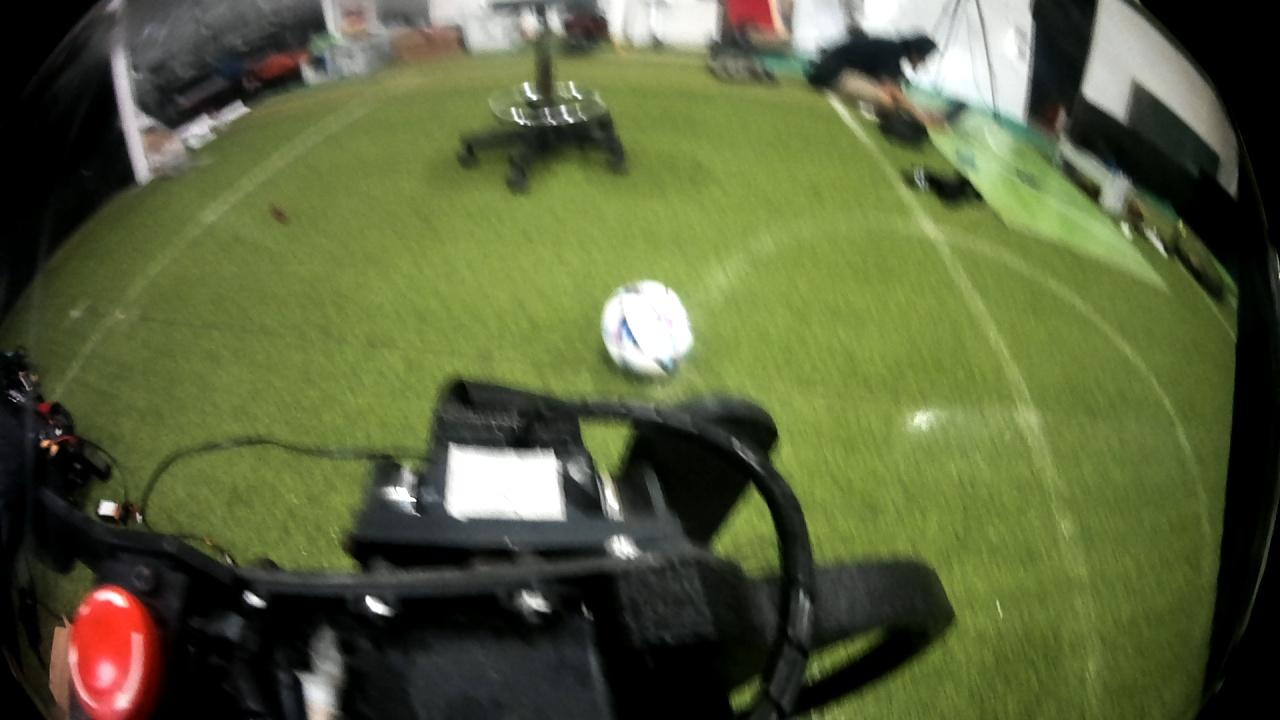ball: (594, 266, 711, 390)
